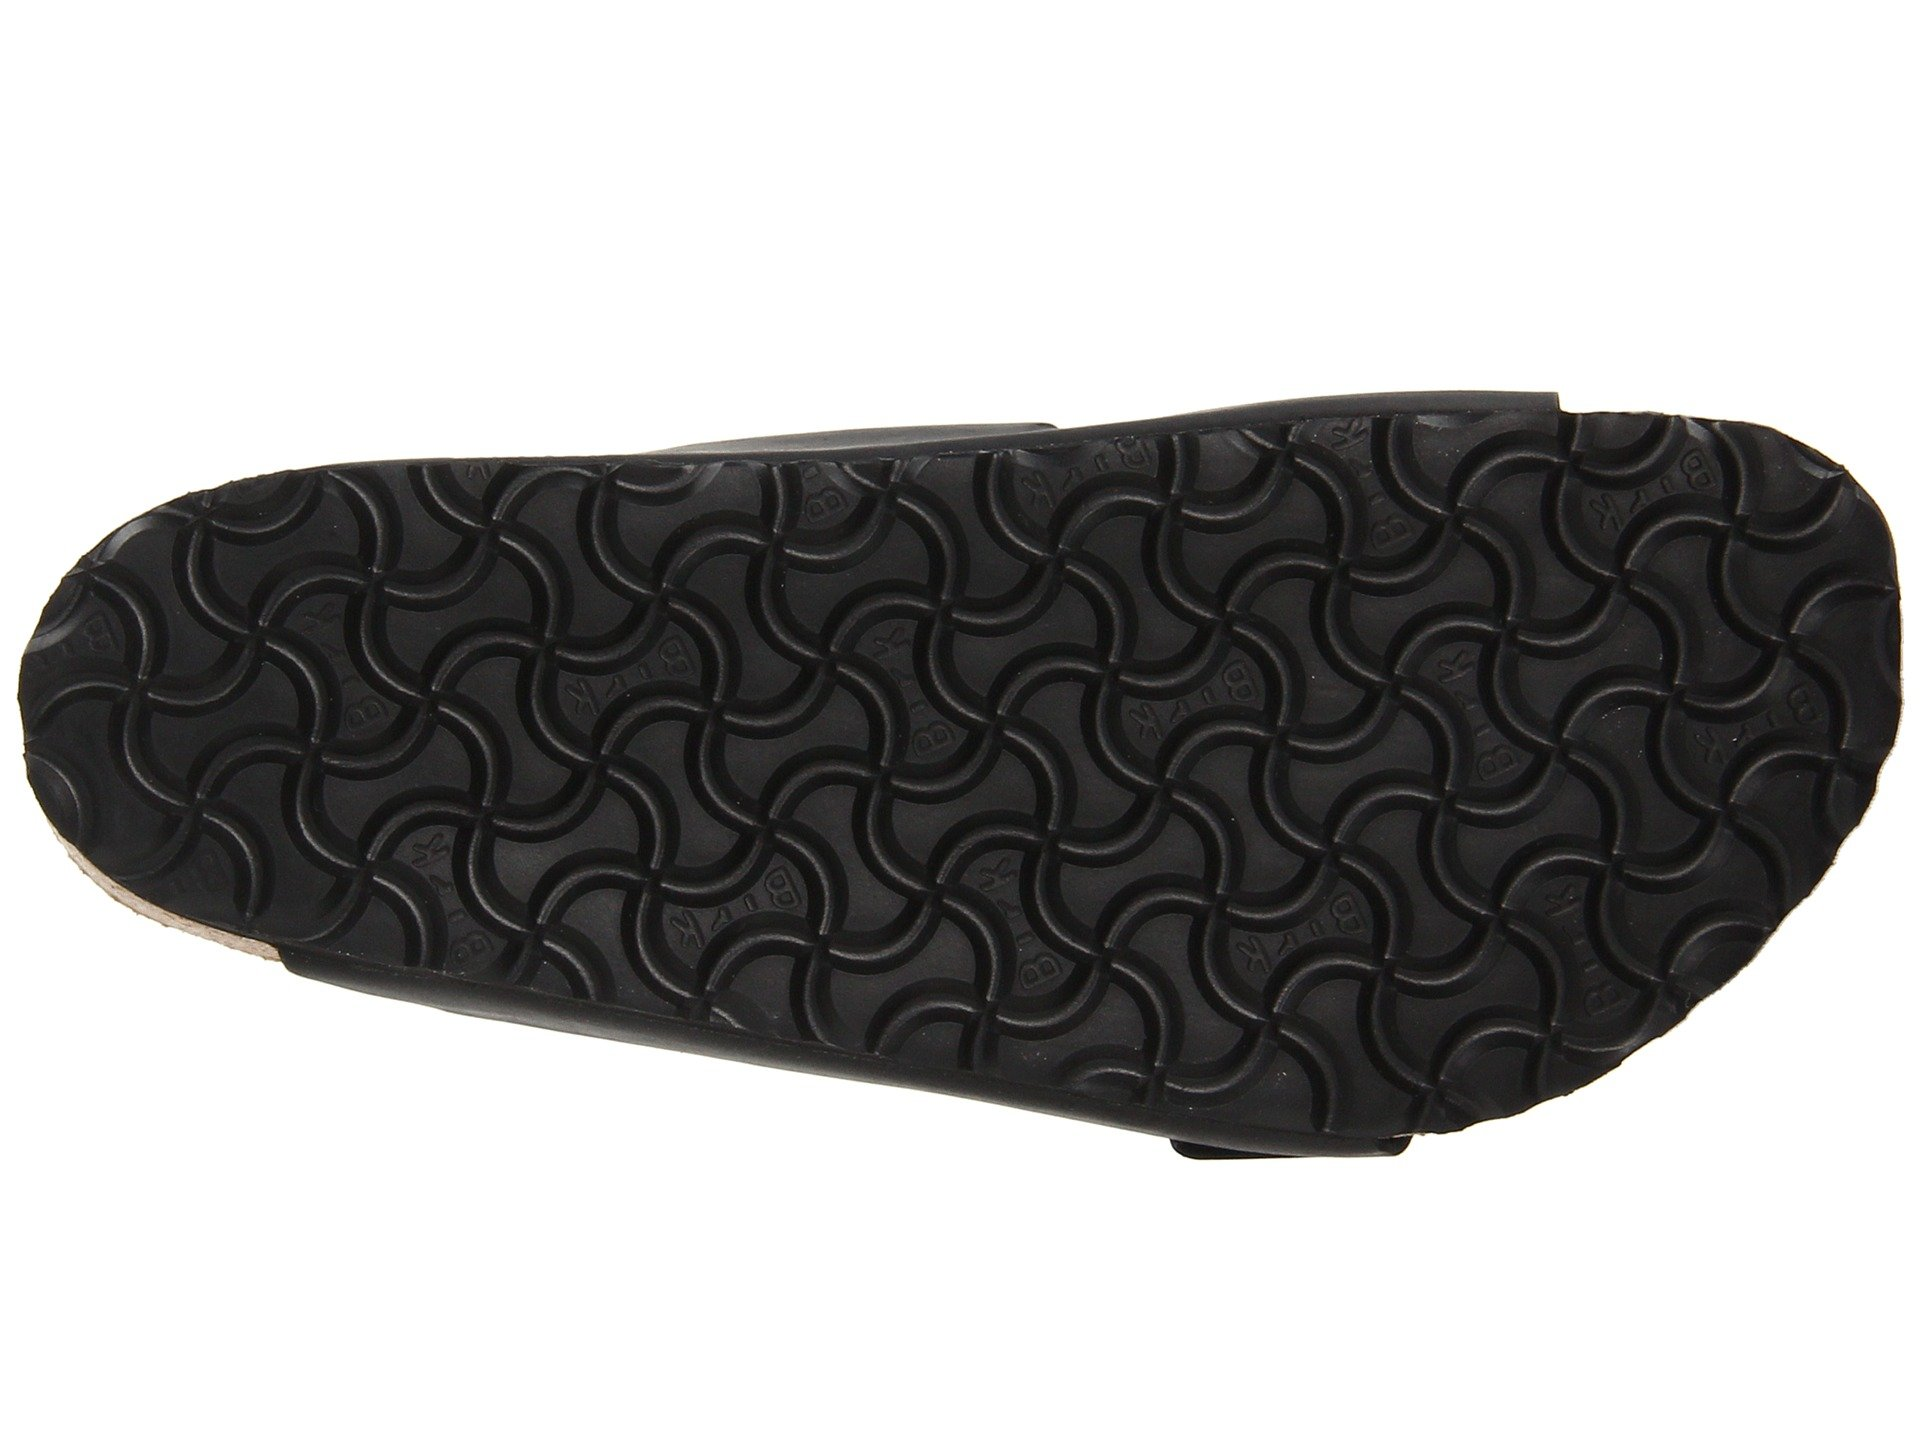bowtie: (992, 499, 1587, 1085)
text: (992, 499, 1587, 1085)
